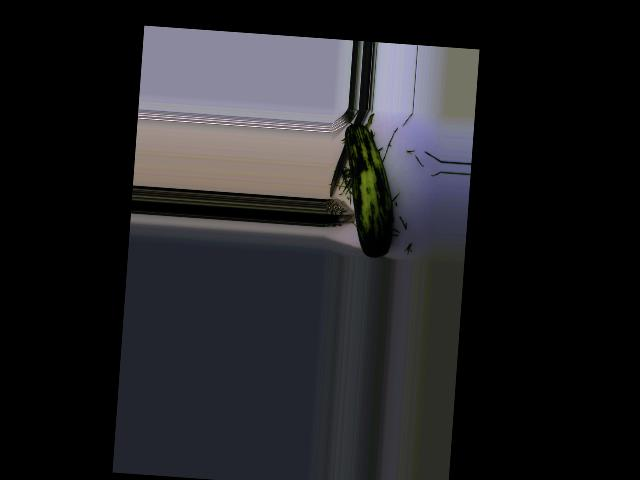cucumber: (336, 122, 400, 258)
